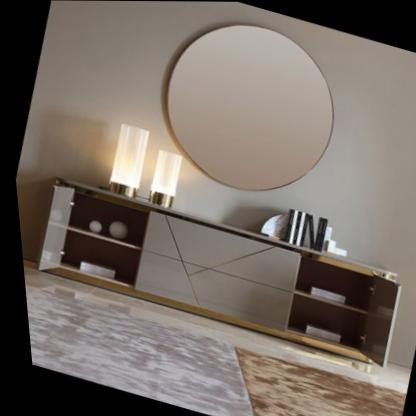Sideboard: (32, 177, 397, 375)
